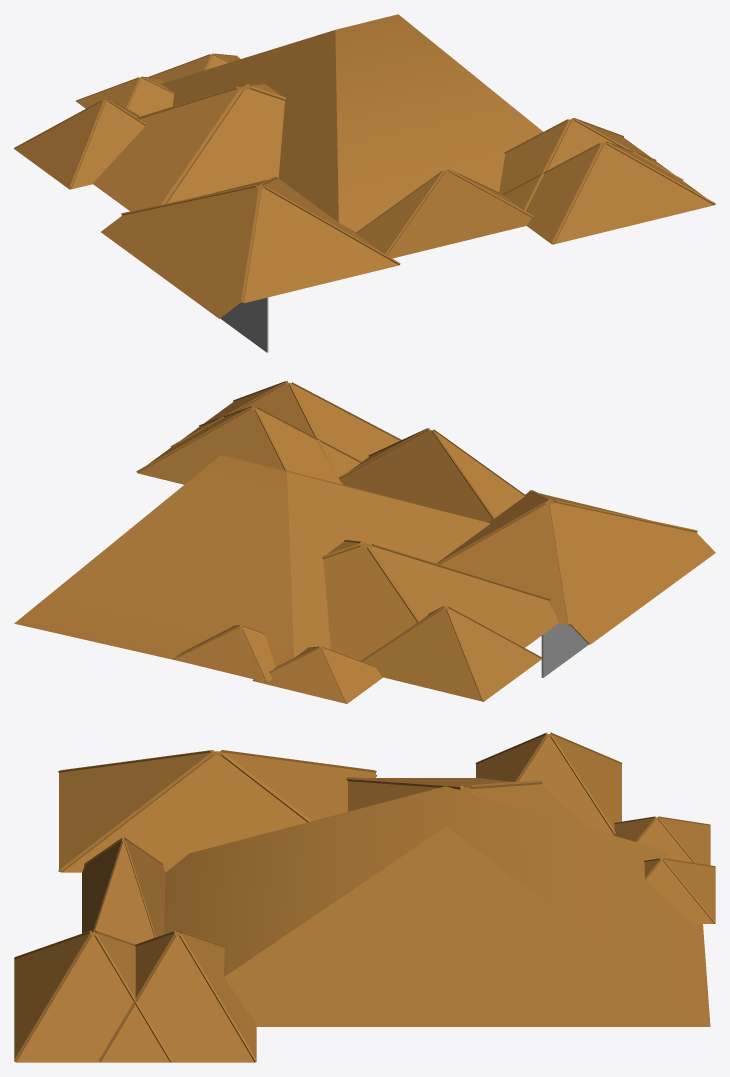
The model's file is ataptimahgabungan.fbx.
3 views of the same model, one above another, from view 1: azimuth 30°, elevation 25°; view 2: azimuth 150°, elevation 25°; view 3: azimuth 270°, elevation 25° (orthographic). The views are drawn at different scales.
Parts seen in each view (by area): view 1: pCube586, pCube591, pasted__pCube586, pCube593, pCube594, pCube581, pCube592, pCube587, pCube589, pCube582; view 2: pCube586, pCube591, pasted__pCube586, pCube581, pCube594, pCube592, pCube593, pCube587, pCube582, pCube589; view 3: pCube586, pCube591, pCube593, pCube592, pCube581, pCube594, pasted__pCube586, pCube582, pCube587.
Boxes of the visible parts, box(x1,y1,x2,y2) form: pCube586: box(161, 14, 542, 232); pCube591: box(101, 176, 400, 318); pasted__pCube586: box(93, 82, 286, 211); pCube593: box(503, 141, 715, 244); pCube594: box(356, 169, 533, 258); pCube581: box(14, 98, 146, 189); pCube592: box(499, 118, 683, 211); pCube587: box(76, 76, 174, 116); pCube589: box(220, 297, 268, 352); pCube582: box(148, 53, 240, 82); pCube586: box(14, 455, 490, 666); pCube591: box(436, 490, 715, 644); pasted__pCube586: box(322, 540, 559, 660); pCube581: box(360, 606, 542, 701); pCube594: box(338, 428, 525, 522); pCube592: box(136, 406, 361, 484); pCube593: box(170, 381, 401, 484); pCube587: box(252, 646, 382, 703); pCube582: box(173, 625, 275, 682); pCube589: box(541, 623, 588, 677); pCube586: box(164, 786, 710, 1026); pCube591: box(58, 750, 376, 872); pCube593: box(14, 930, 172, 1062); pCube592: box(98, 930, 256, 1062); pCube581: box(475, 732, 622, 835); pCube594: box(82, 837, 165, 944); pasted__pCube586: box(346, 777, 586, 827); pCube582: box(644, 858, 715, 923); pCube587: box(613, 816, 710, 865).
Bounding box in the file's own units: 46.19 × 16.62 × 45.13.
